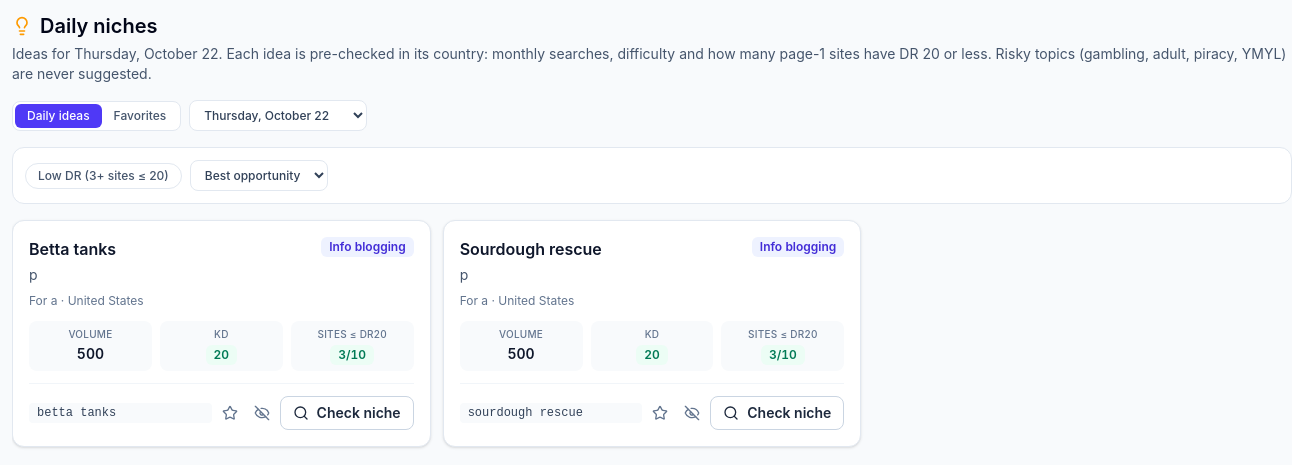
Test: daily niche reactions › shows favorites from every day and past days by date
Expected: the text "Betta tanks" is shown, [29,237,116,261]
Select "Wednesday, October 21" in the 1st dropdown named "Day" at (278, 116), box [189,100,367,131]
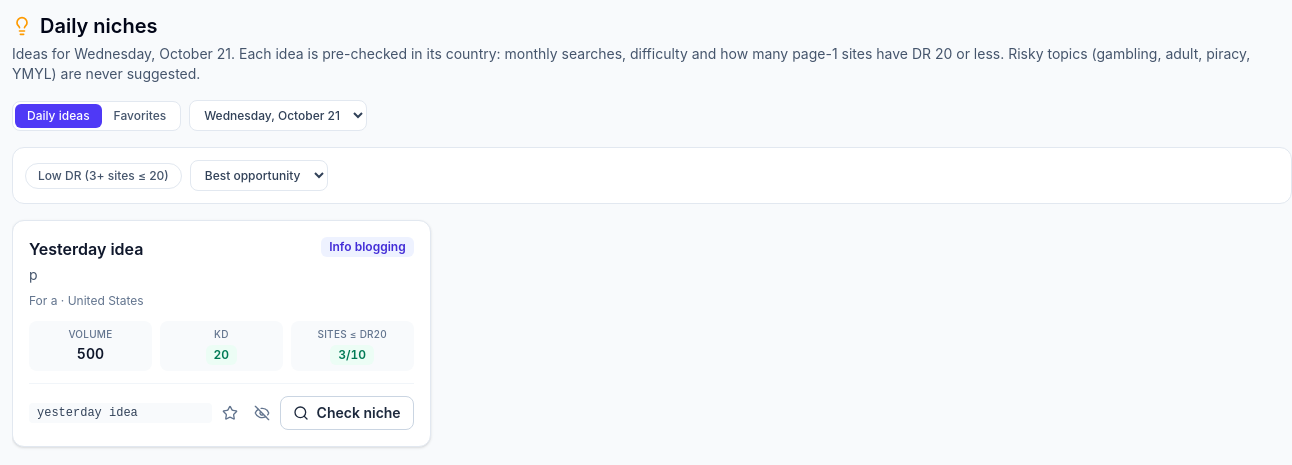
Expected: the text "Yesterday idea" is shown, [29,237,143,261]
Click the button "Favorites".
click(140, 116)  # box [102,104,178,128]
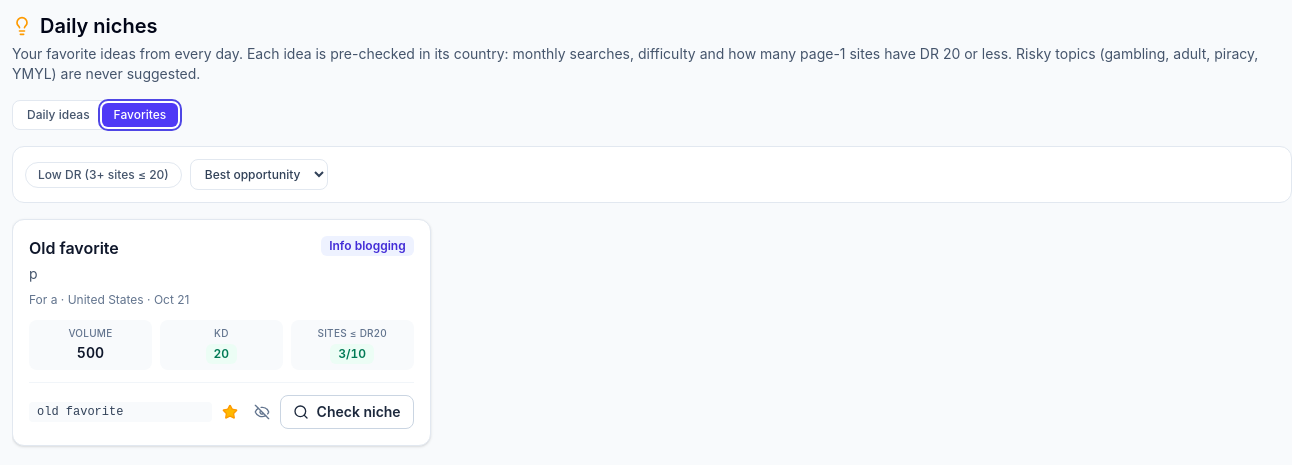
Expected: the text "Old favorite" is shown, [29,236,119,260]
Expected: the text "For a · United States · Oct 21" is shown, [29,292,189,307]
Click the button named "Remove “Old favorite” from favorites".
click(230, 412)  # box [216,398,244,426]
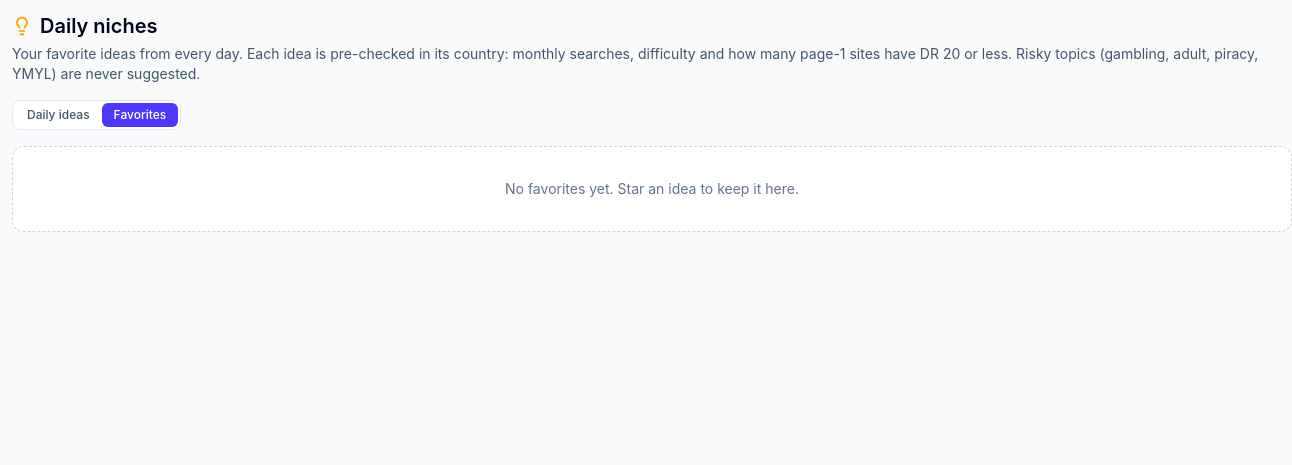
Expected: the text "No favorites yet. Star an idea to keep it here." is shown, [505,180,799,197]
